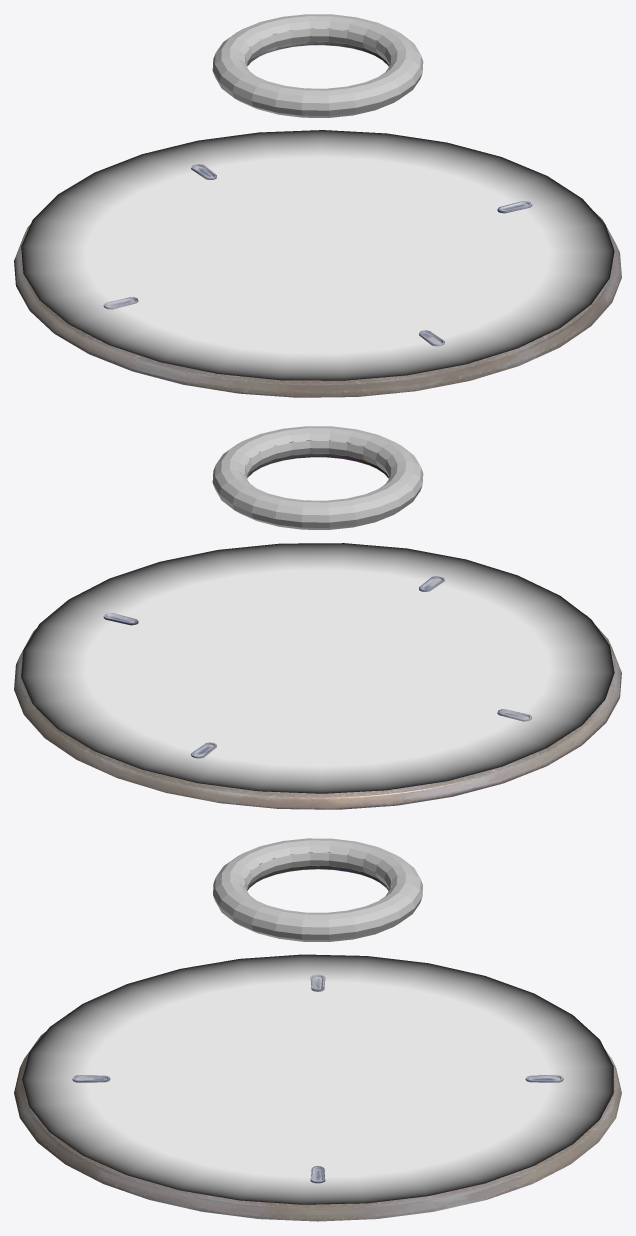
Rendered from pref_TPC_v2_NeutralScoreArea03_winter_purple_frozen_15s_lv1.fbx.
3 renders of one model, top to bottom at view 1: azimuth 30°, elevation 25°; view 2: azimuth 150°, elevation 25°; view 3: azimuth 270°, elevation 25°, orthographic.
Visible parts, largest first — view 1: dm_ice_1, sm_prop_platform06a_lv1, ring, sm_prop_platform06b_lv1; view 2: dm_ice_1, sm_prop_platform06a_lv1, ring, sm_prop_platform06b_lv1; view 3: dm_ice_1, sm_prop_platform06a_lv1, ring, sm_prop_platform06b_lv1.
Boxes of the visible parts, <box> form: dm_ice_1: <box>21,130,614,380</box>; sm_prop_platform06a_lv1: <box>14,164,621,397</box>; ring: <box>212,14,423,117</box>; sm_prop_platform06b_lv1: <box>244,28,391,65</box>; dm_ice_1: <box>21,543,614,793</box>; sm_prop_platform06a_lv1: <box>14,576,621,809</box>; ring: <box>212,426,423,529</box>; sm_prop_platform06b_lv1: <box>244,440,391,484</box>; dm_ice_1: <box>22,954,613,1204</box>; sm_prop_platform06a_lv1: <box>14,974,621,1221</box>; ring: <box>213,838,422,941</box>; sm_prop_platform06b_lv1: <box>244,852,391,896</box>.
Size of the model in its own units: 7.46 by 2.92 by 7.46.
